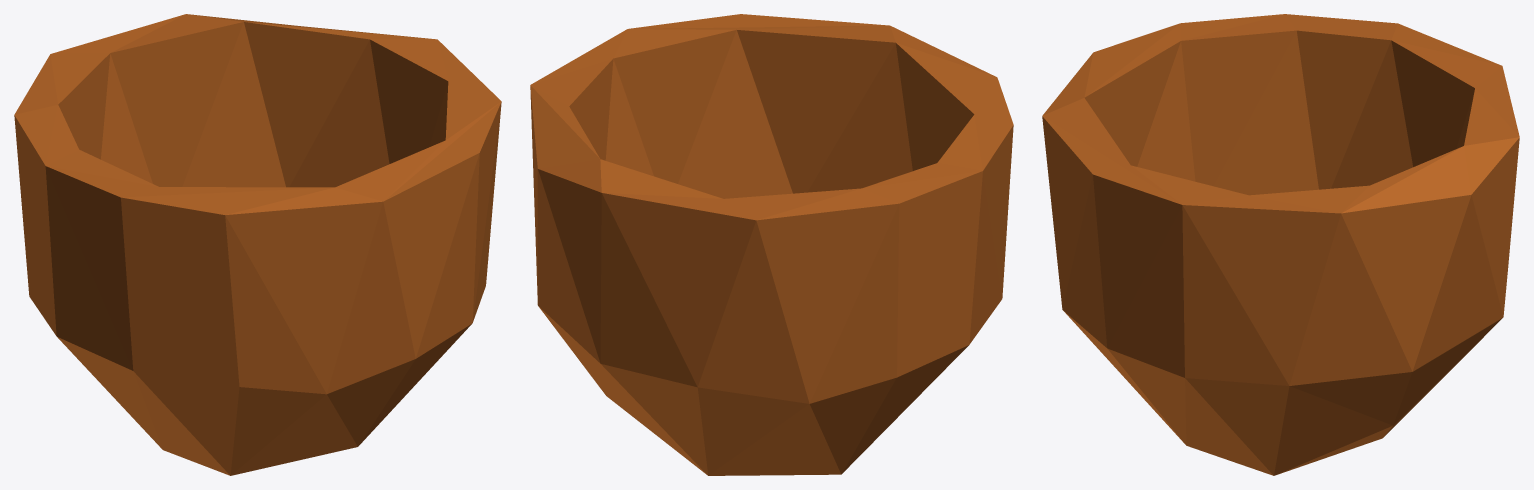
The model's file is SM_pottery_06.fbx.
3 views of the same model, side by side, from view 1: azimuth 30°, elevation 25°; view 2: azimuth 150°, elevation 25°; view 3: azimuth 270°, elevation 25° (orthographic). The views are drawn at different scales.
Parts seen in each view (by area): view 1: dfsf; view 2: dfsf; view 3: dfsf.
Boxes of the visible parts, x1,y1,x2,y2 form: dfsf: (14,14,501,475); dfsf: (530,14,1013,475); dfsf: (1042,14,1519,475).
Size of the model in its own units: 25.2 by 18.99 by 25.08.
